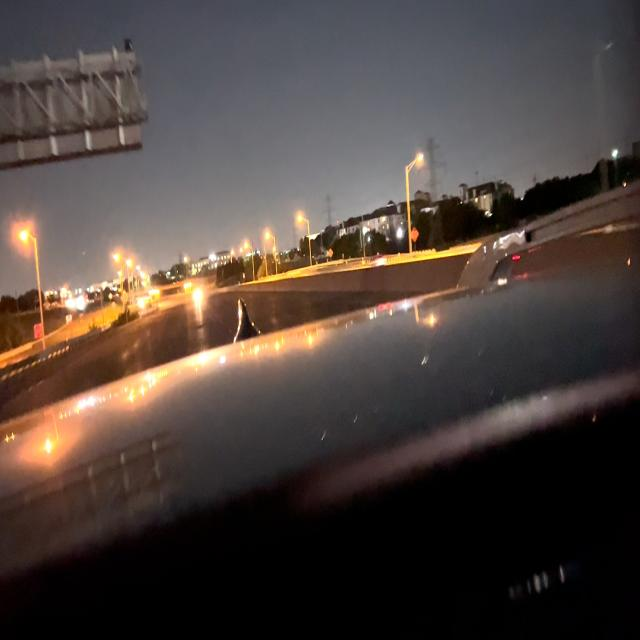back-of-sign: (2, 49, 143, 165)
